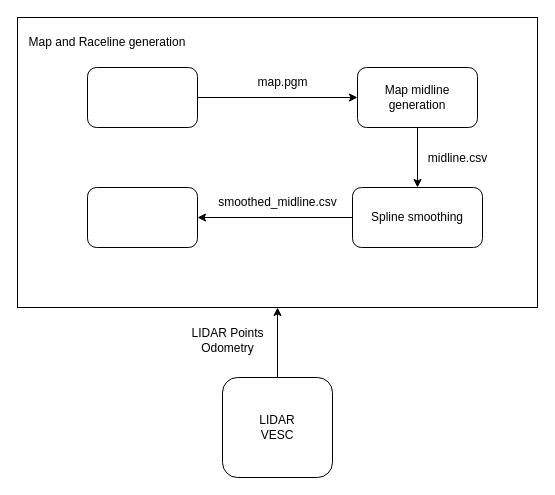
This 555x495 diagram has some shape labels left out. The centre of each missing label's shape, as x and y in pixels:
"Optimal racing line generation" goes at [142,217].
"SLAM" goes at [142,97].
